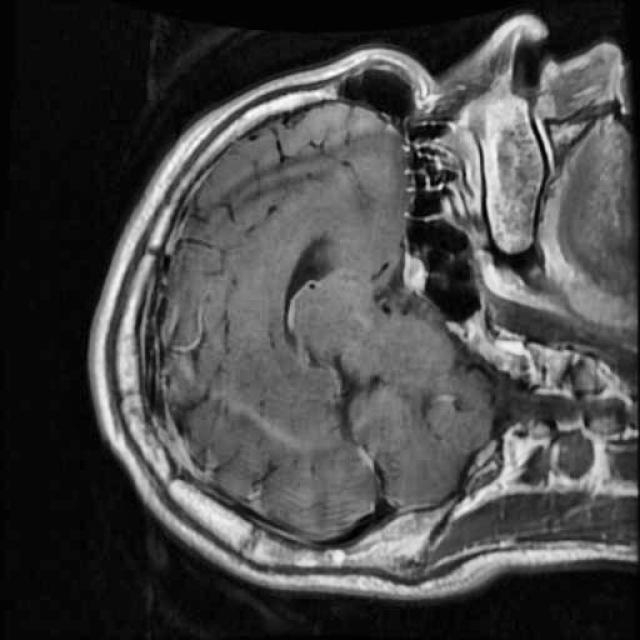Tumor: (389, 238, 438, 309)
